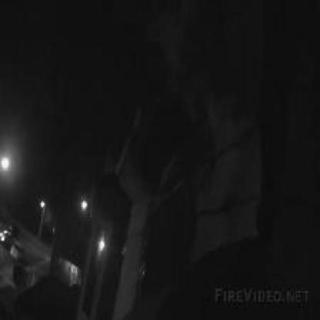other: (32, 194, 48, 212), (0, 150, 12, 174), (73, 194, 87, 214)
